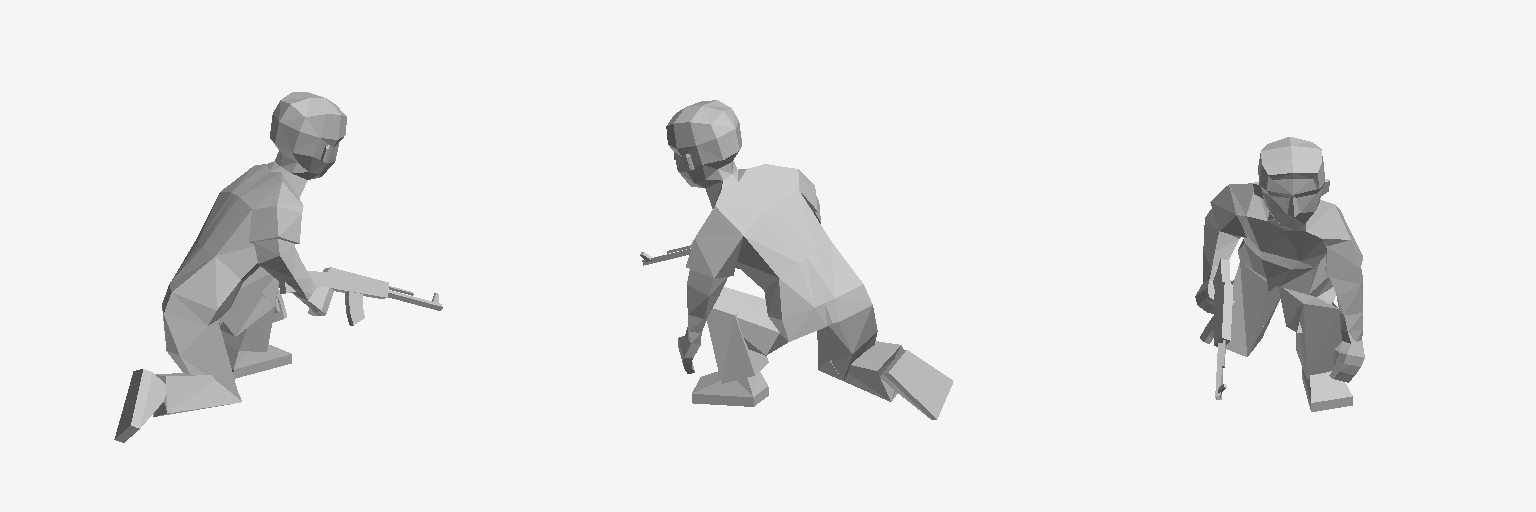
The model's file is player_male_down_1.obj.
The picture shows the model from 3 angles: view 1: azimuth 30°, elevation 25°; view 2: azimuth 150°, elevation 25°; view 3: azimuth 270°, elevation 25°; orthographic projection.
Bounding box in the file's own units: 1.42 × 1.22 × 0.6728.